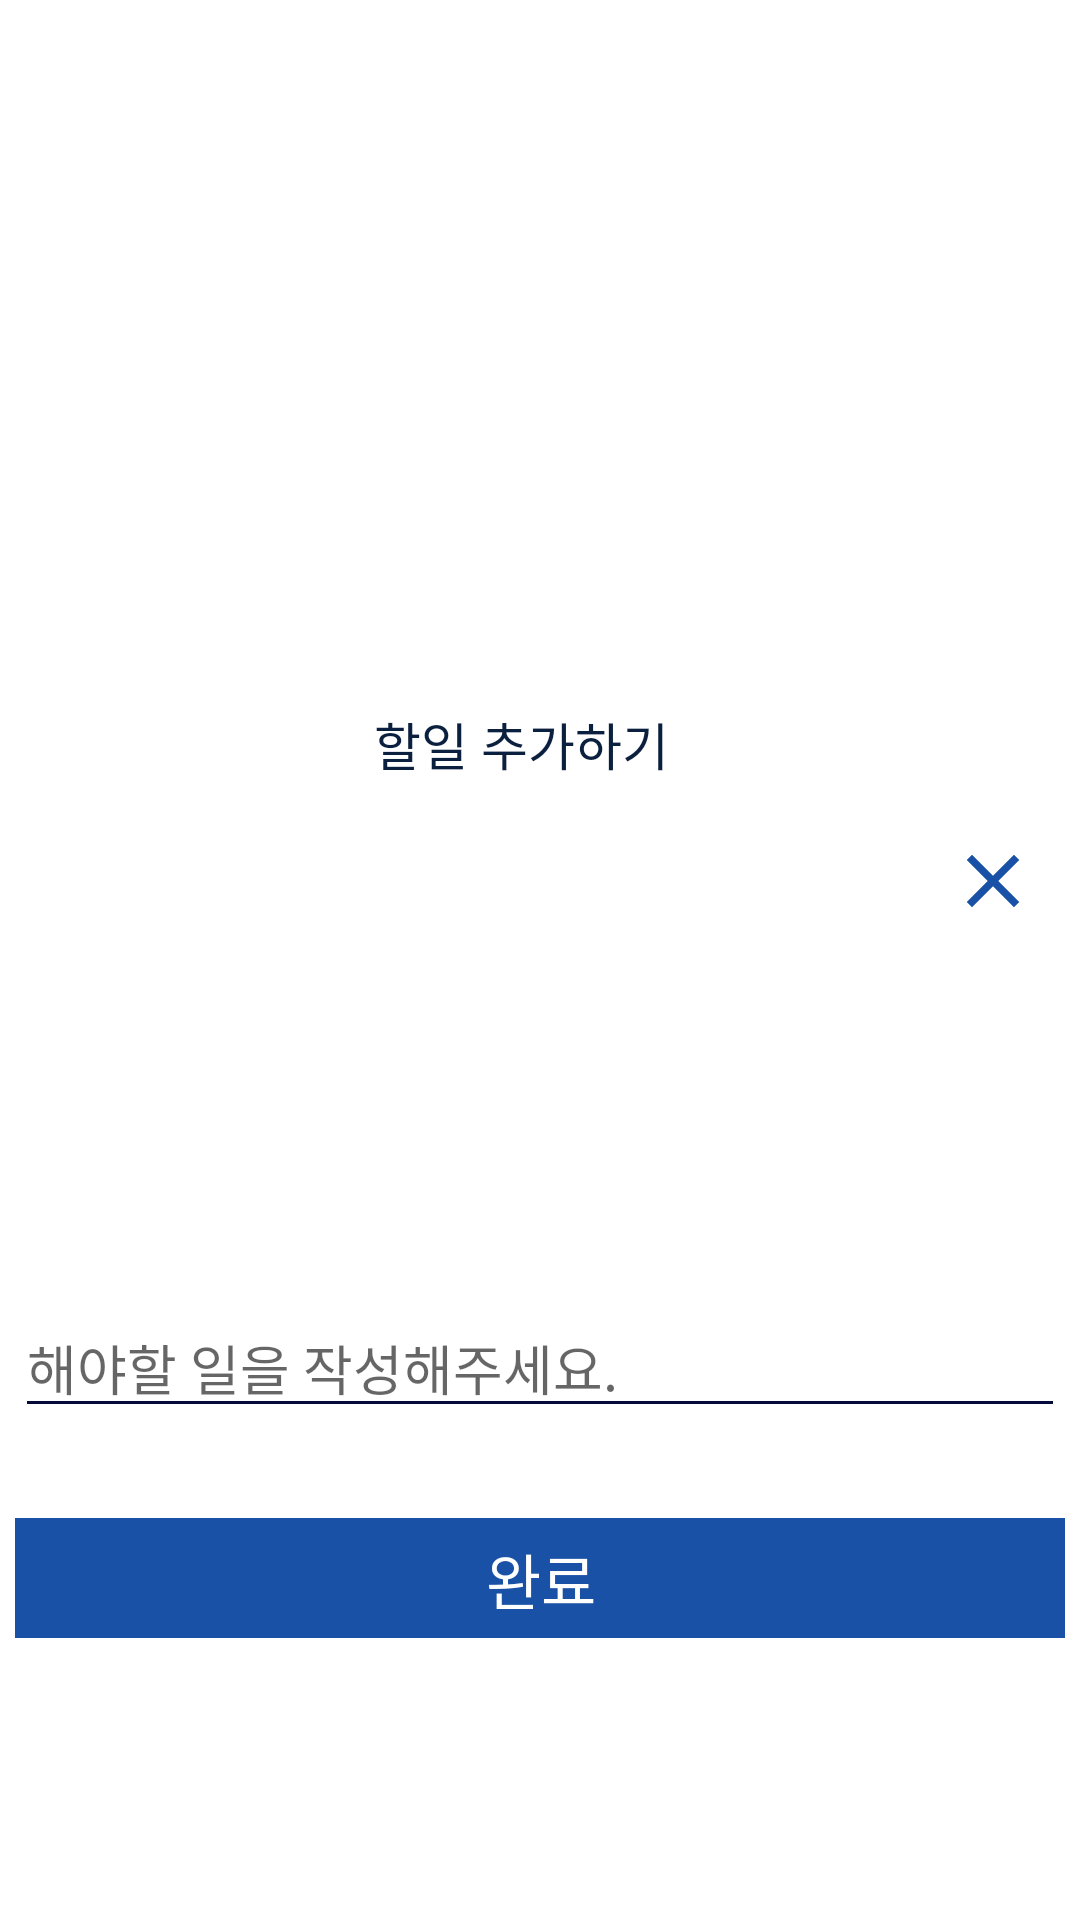

Where to tap for icons on this 1080 x 1920 app screen, as (x=x, y=y):
clear: (x=993, y=881)
